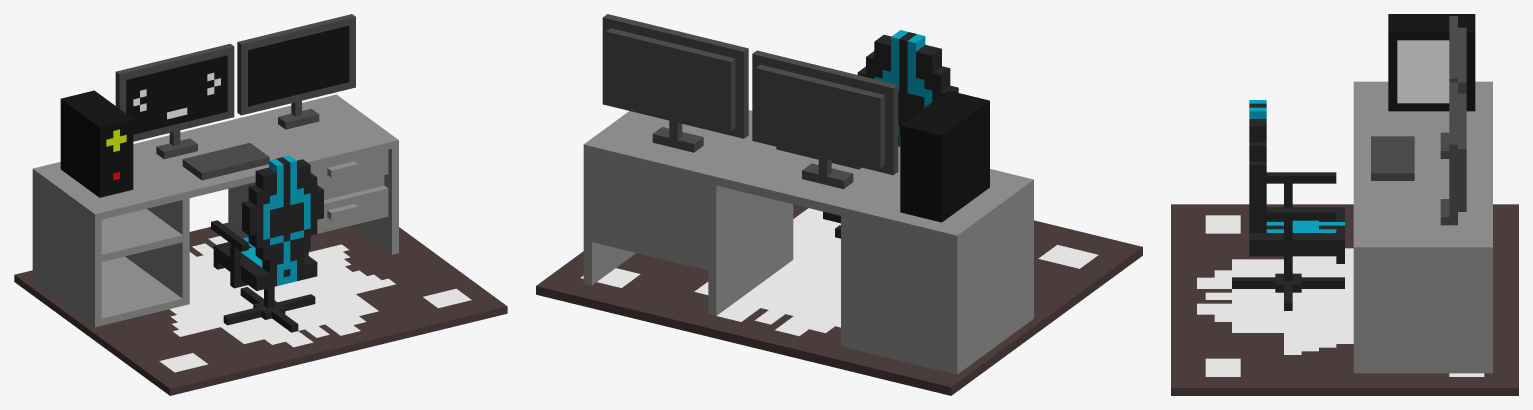
File: room.glb
3 views of the same model, side by side, from view 1: azimuth 30°, elevation 25°; view 2: azimuth 150°, elevation 25°; view 3: azimuth 270°, elevation 25° (orthographic). The views are drawn at different scales.
Bounding box in the file's own units: 5 × 3 × 4.
Materials: 1 (1 with a texture image).
